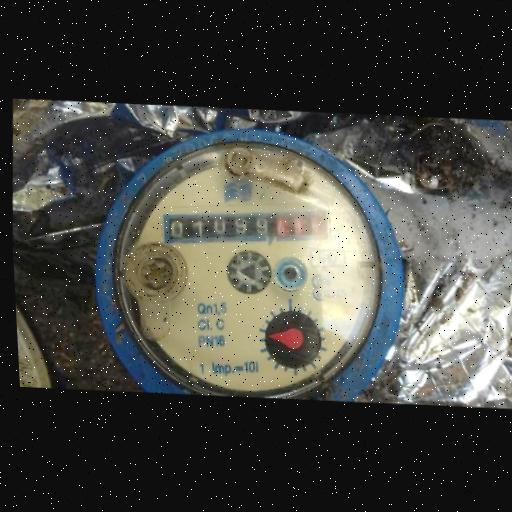0: (166, 217, 188, 241), (209, 215, 231, 239)
1: (188, 217, 211, 239)
3: (290, 214, 308, 236)
4: (272, 214, 292, 237)
6: (307, 213, 325, 236)
9: (230, 214, 252, 237), (251, 214, 273, 237)
border_water_meter_number: (160, 201, 329, 253)
